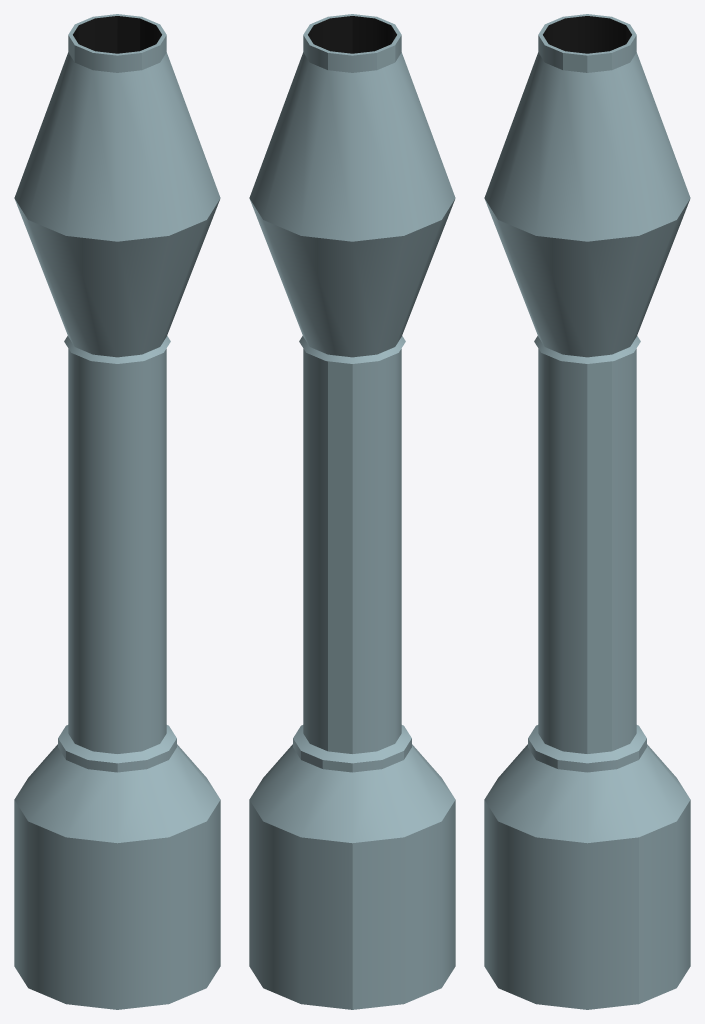
File: chimenea_1.fbx
The picture shows the model from 3 angles, left to right: view 1: azimuth 30°, elevation 25°; view 2: azimuth 150°, elevation 25°; view 3: azimuth 270°, elevation 25°; orthographic projection.
Parts seen in each view (by area): view 1: chimenea_1; view 2: chimenea_1; view 3: chimenea_1.
Boxes of the visible parts, x1,y1,x2,y2 form: chimenea_1: [14, 14, 220, 1009]; chimenea_1: [249, 14, 455, 1009]; chimenea_1: [484, 14, 690, 1009].
Bounding box in the file's own units: 41.86 × 209 × 41.86.
